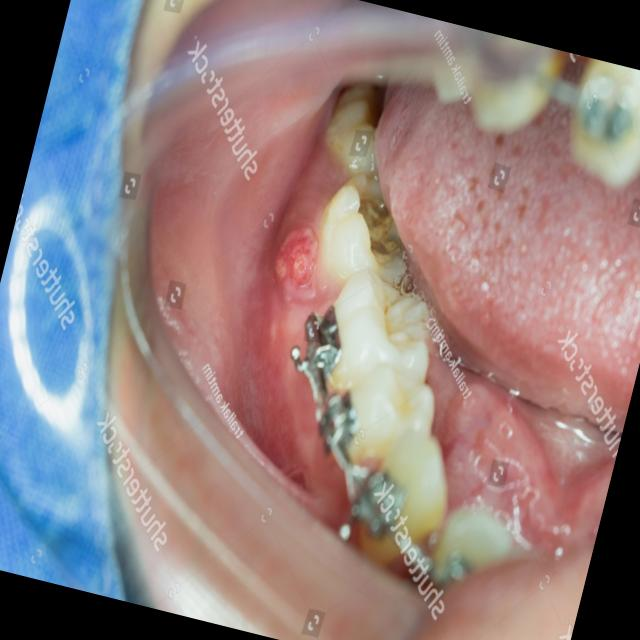abscess: (244, 208, 340, 321)
